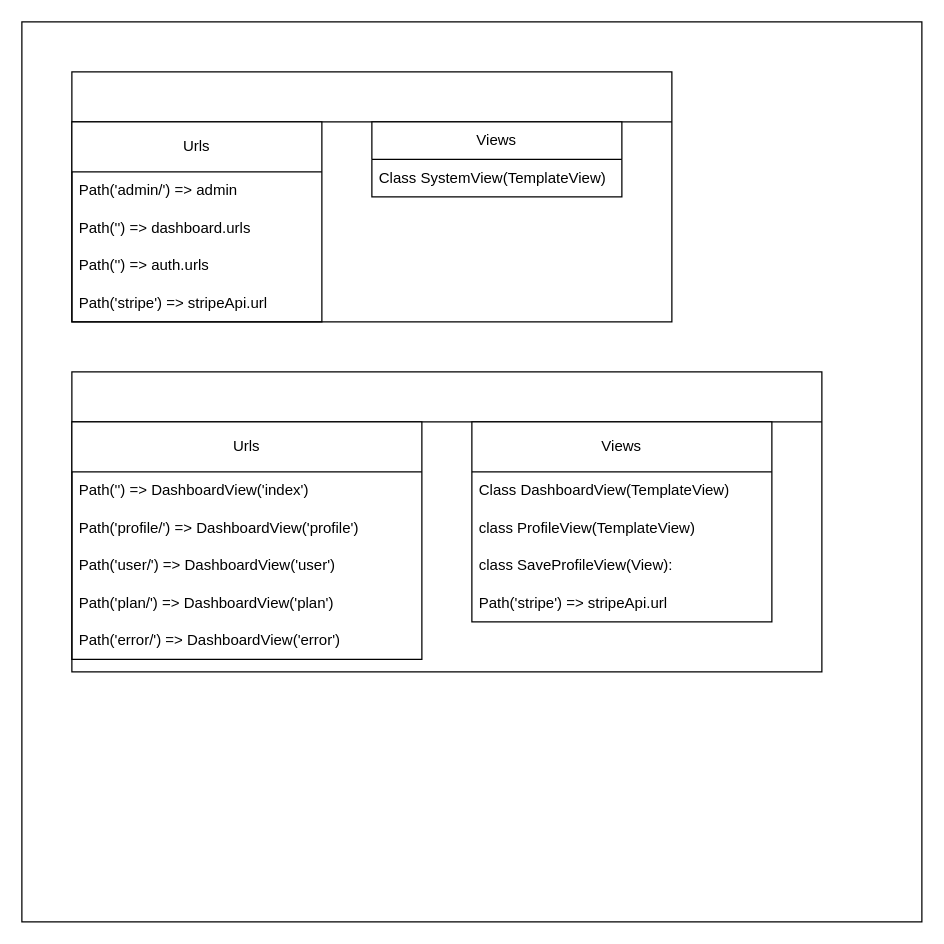
The diagram is 944 pixels wide and 944 high, and some of its shapes have lost their labels. The box of each missing label's shape, as (x1, y1, x2, y2) in pixels:
Dashboards: (71, 371, 822, 672)
Project: (71, 71, 672, 322)
